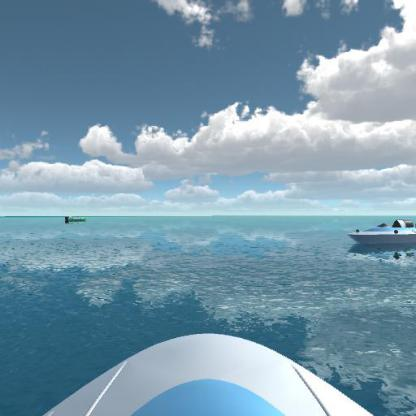usv0: (62, 209, 88, 226)
usv1: (347, 210, 415, 252)
